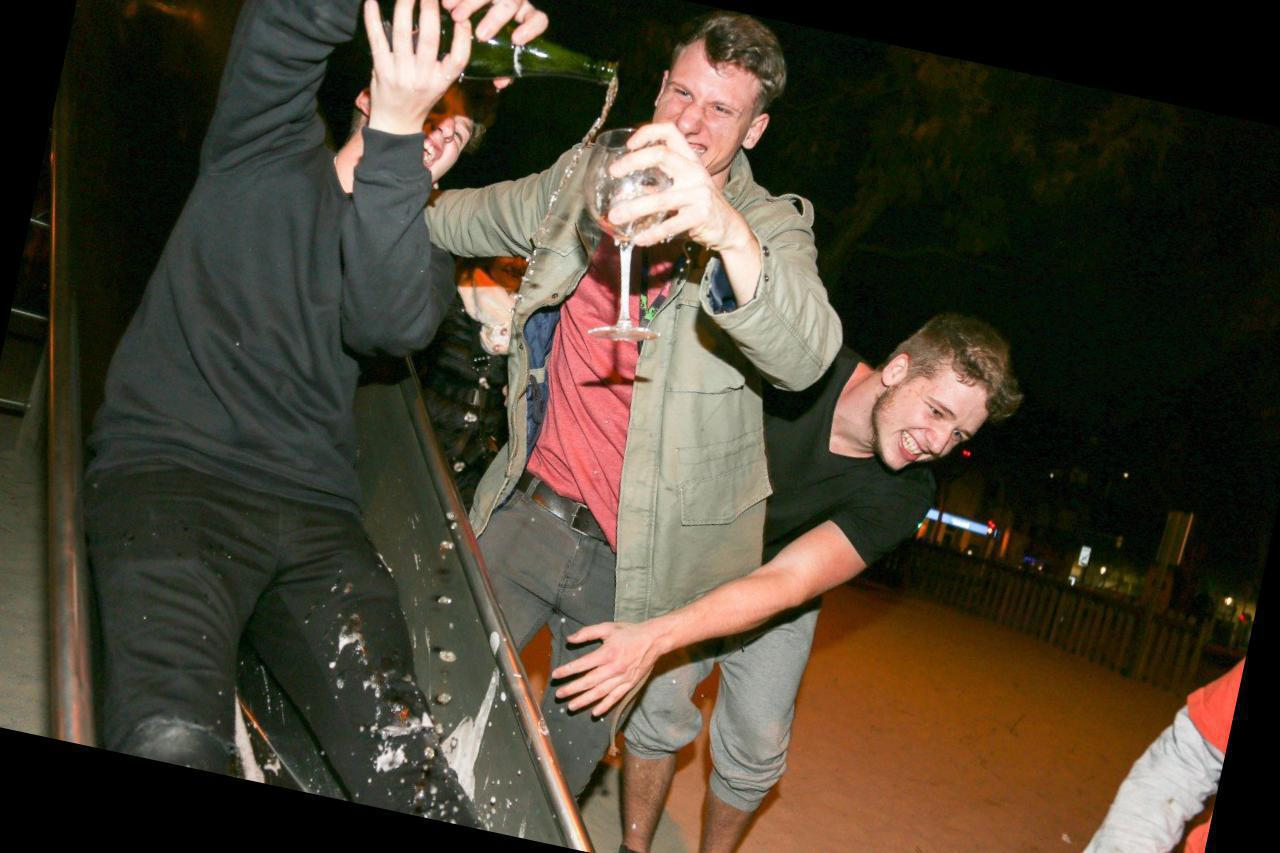Drunk: (653, 50, 748, 177), (877, 364, 985, 462)
